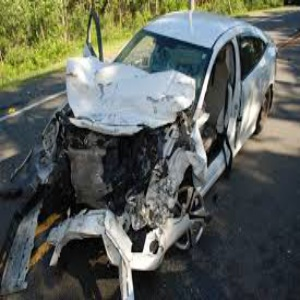bonnet: (64, 57, 178, 133)
bumper: (30, 155, 188, 271)
